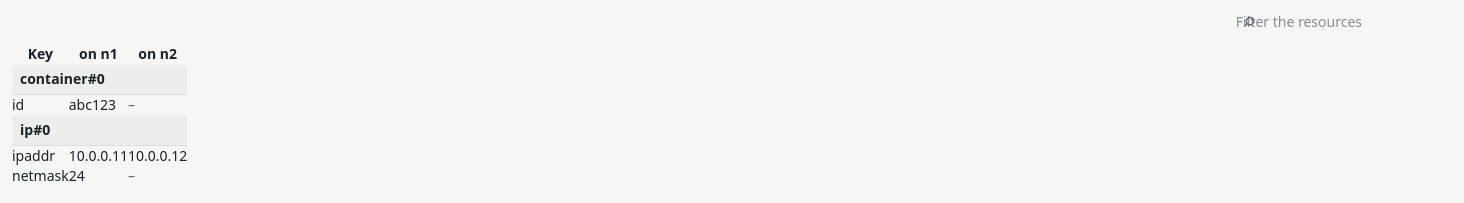
ObjectTabs › resources › the filter keeps a resource by its name, or the keys and values that match
Expected: the table named "Resource information" is shown, x1=12 y1=44 x2=187 y2=186
Type "container" into the search field labelled "Filter the resources" at (1344, 22), box x1=1236 y1=12 x2=1452 y2=32
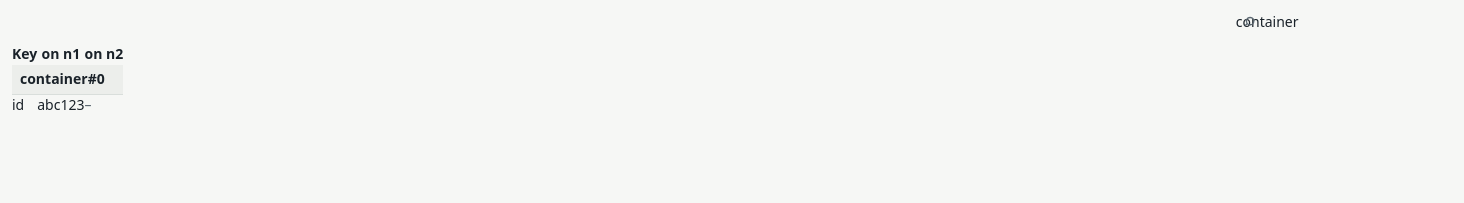
Replace the text in the search field named "Filter the resources" with "10.0.0.12" at (1344, 22), box x1=1236 y1=12 x2=1452 y2=32
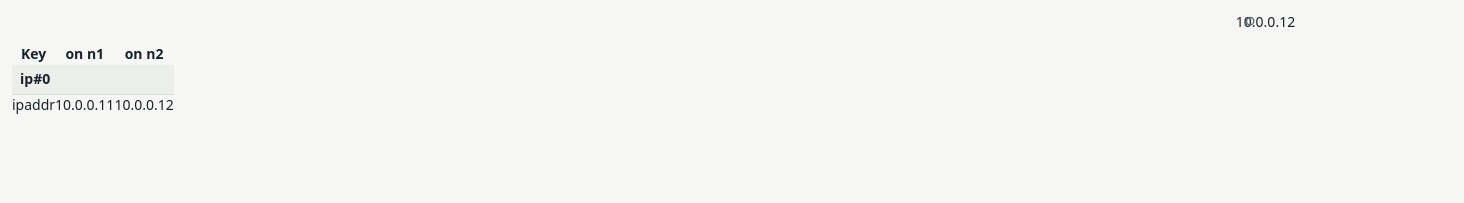
Replace the text in the search field named "Filter the resources" with "nothing" at (1344, 22), box x1=1236 y1=12 x2=1452 y2=32
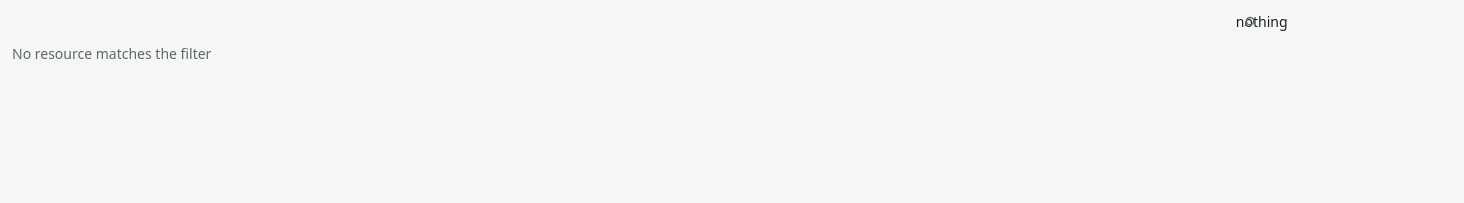
Now the text "No resource matches the filter" is shown, box x1=12 y1=44 x2=211 y2=63
